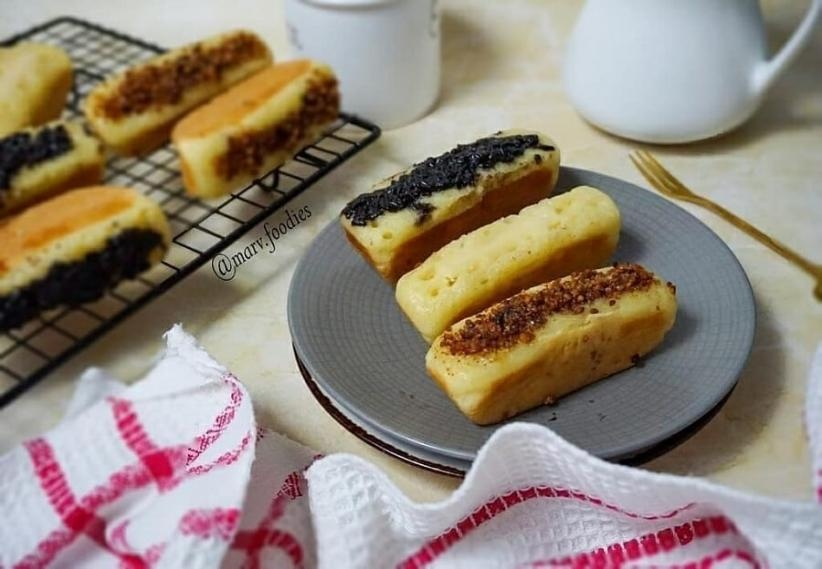pukis: (172, 36, 365, 201)
